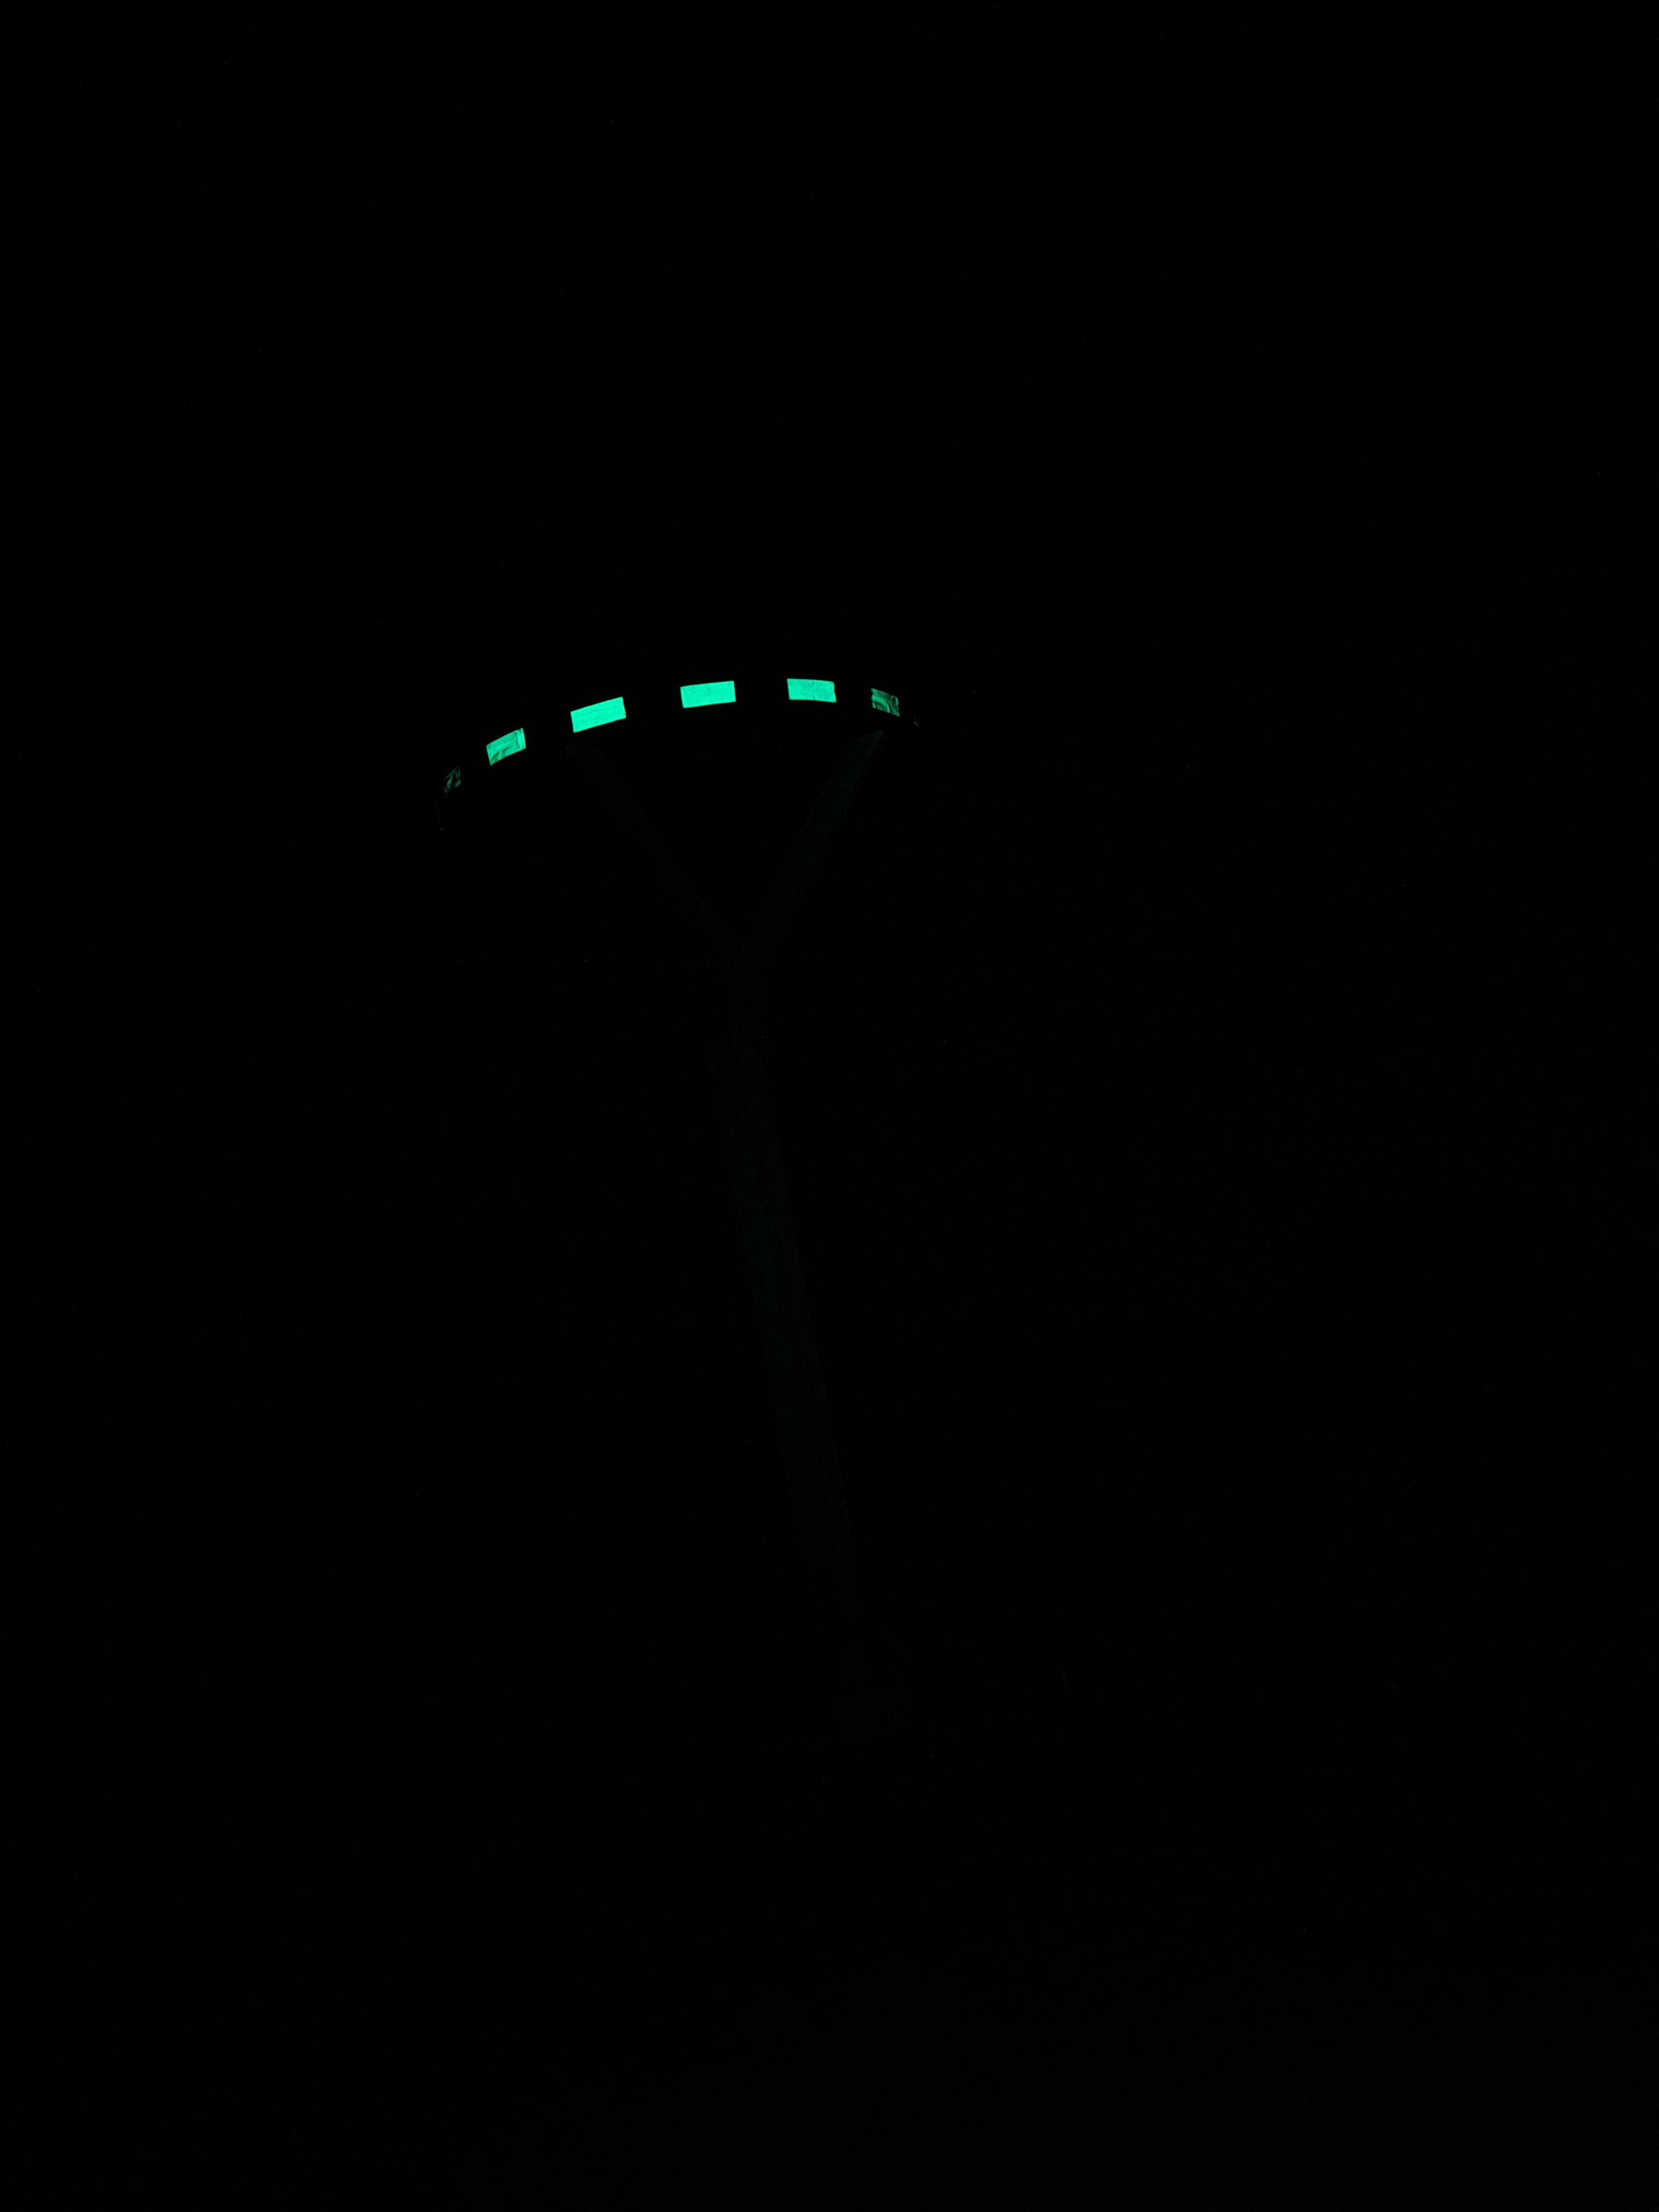hoop: (474, 678, 906, 786)
